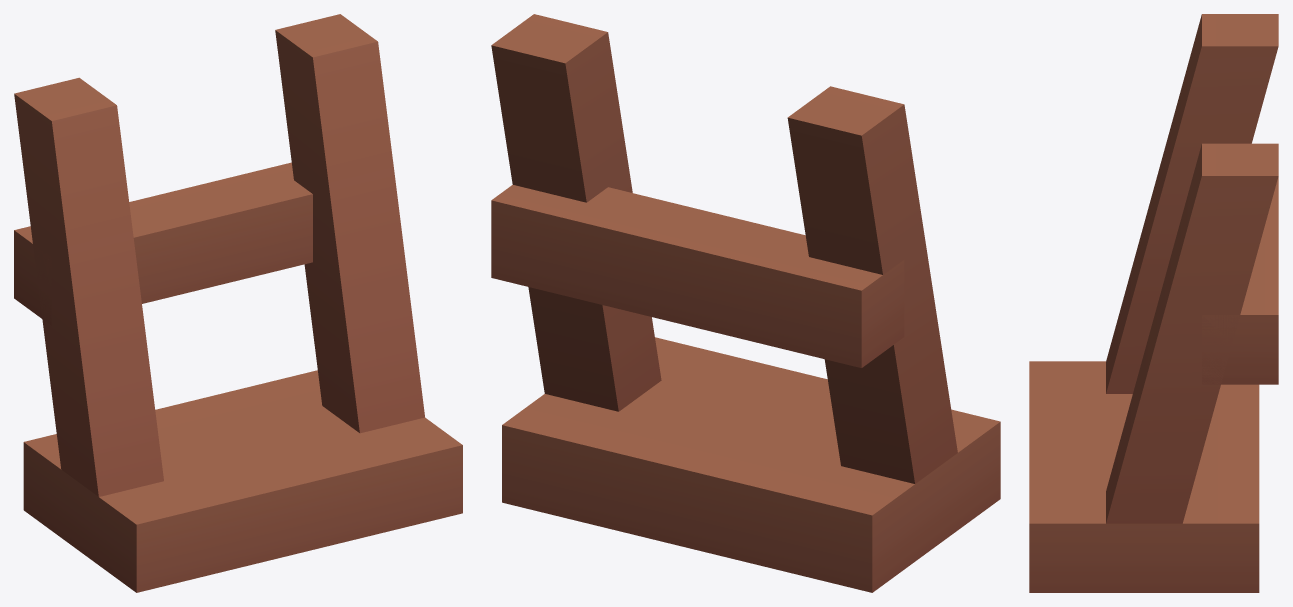
File: d_kaykit_ratelier.glb
The picture shows the model from 3 angles, left to right: view 1: azimuth 30°, elevation 25°; view 2: azimuth 150°, elevation 25°; view 3: azimuth 270°, elevation 25°; orthographic projection. The views are drawn at different scales.
Parts seen in each view (by area): view 1: d_kaykit_ratelier; view 2: d_kaykit_ratelier; view 3: d_kaykit_ratelier.
Part boxes in pixels (bbox=[...]): d_kaykit_ratelier: bbox=[14, 14, 462, 592]; d_kaykit_ratelier: bbox=[491, 14, 1000, 592]; d_kaykit_ratelier: bbox=[1029, 14, 1278, 592].
Bounding box in the file's own units: 0.2 × 0.24 × 0.13.
1 material, 1 textured.
